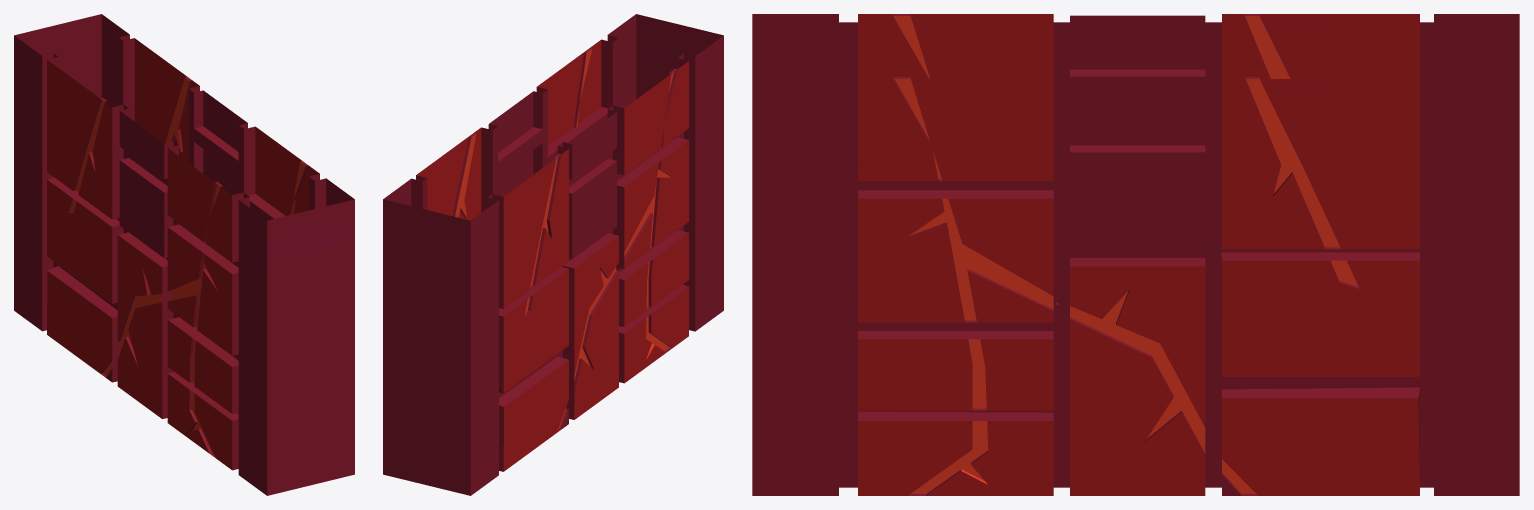
Rendered from LabrinthWallB.fbx.
3 views of the same model, side by side, from view 1: azimuth 30°, elevation 25°; view 2: azimuth 150°, elevation 25°; view 3: azimuth 270°, elevation 25° (orthographic). The views are drawn at different scales.
Parts seen in each view (by area): view 1: Wall.001; view 2: Wall.001; view 3: Wall.001.
Part boxes in pixels (x1=…): Wall.001: x1=14, y1=14, x2=354, y2=495; Wall.001: x1=383, y1=14, x2=723, y2=495; Wall.001: x1=752, y1=14, x2=1519, y2=495.
Bounding box in the file's own units: 100 × 300 × 500.
